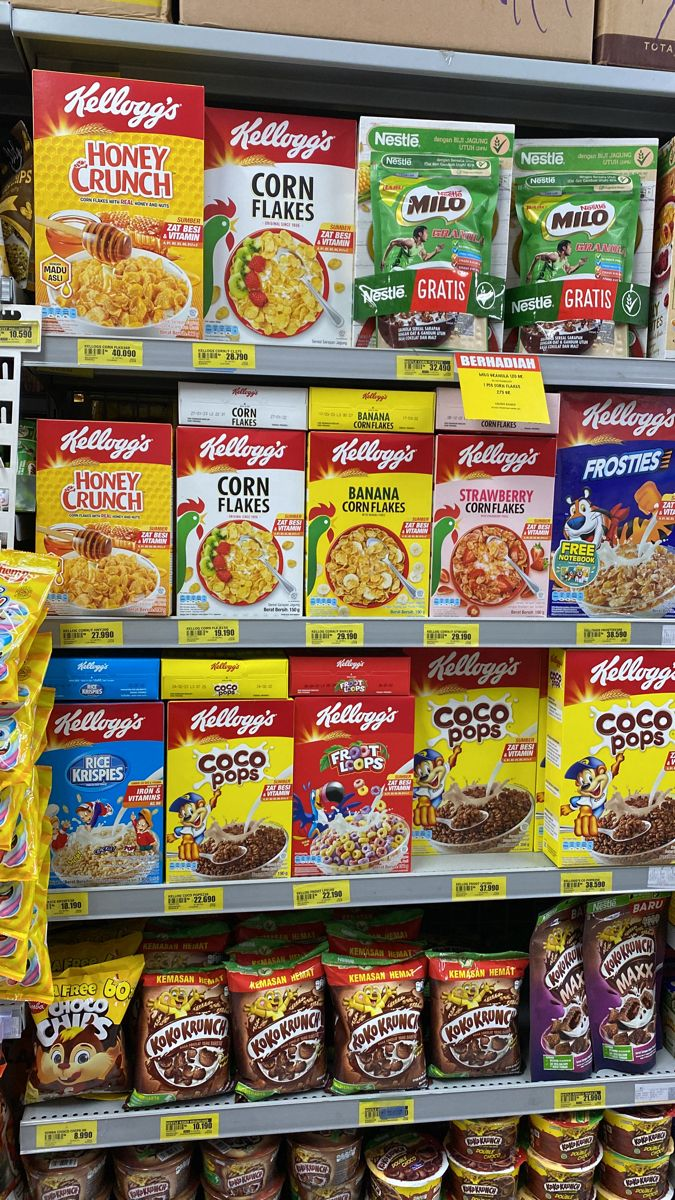Coco Pops: (179, 734, 281, 836), (419, 680, 521, 782)
Corn Flakes: (227, 151, 327, 251), (190, 443, 290, 543)
Honey Crunch: (22, 62, 208, 248)
KoKo Krunch: (142, 983, 242, 1083)
Milo: (372, 151, 489, 268), (518, 165, 635, 282)
